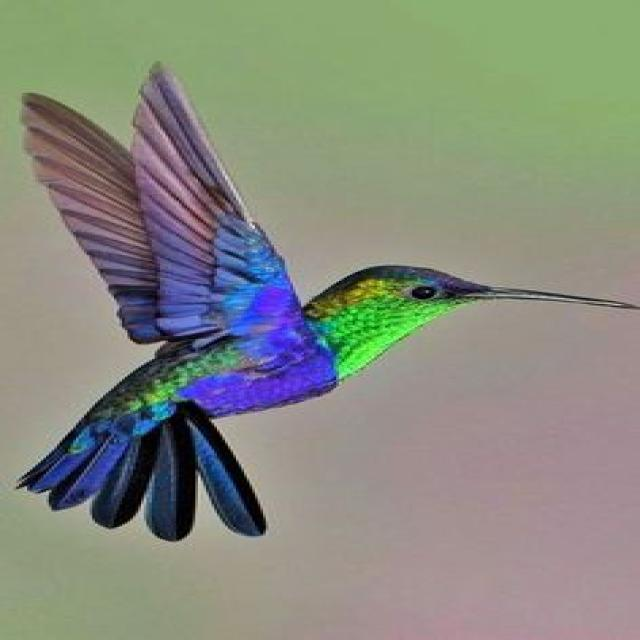Herbivorous: (16, 67, 635, 544)
